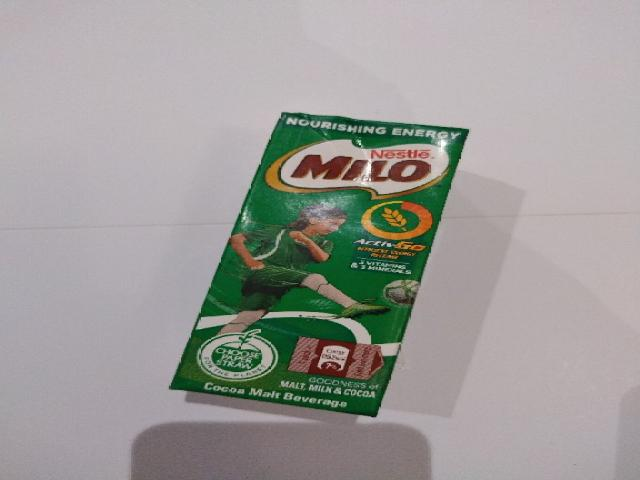drink_box: (170, 112, 468, 416)
